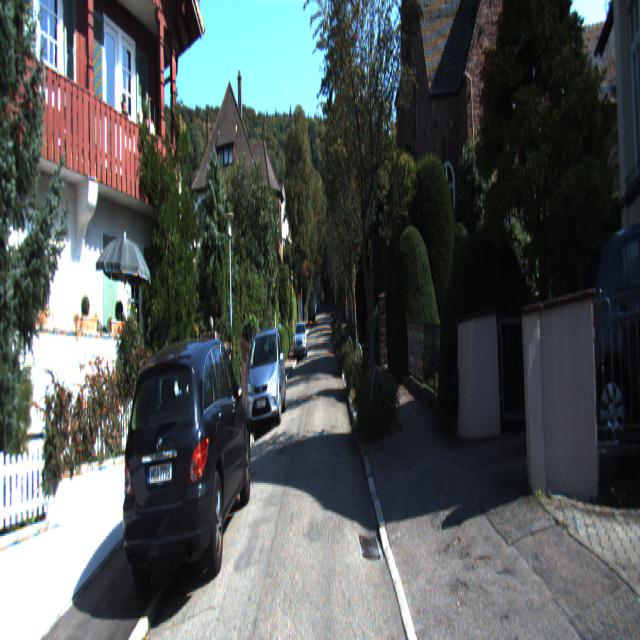Car: (121, 319, 253, 613), (590, 195, 640, 472), (246, 323, 286, 432), (293, 322, 308, 362)
